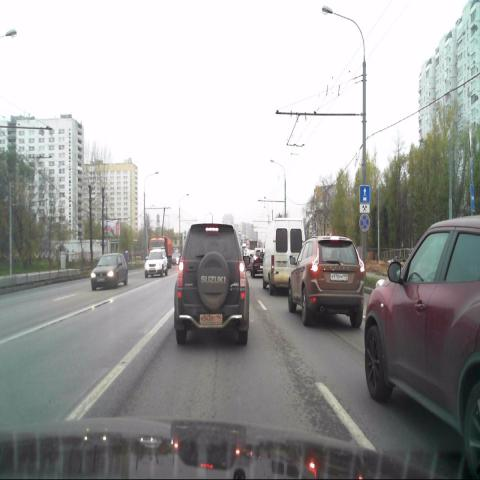3_27: (359, 213, 370, 232)
5_14: (360, 186, 370, 203)
